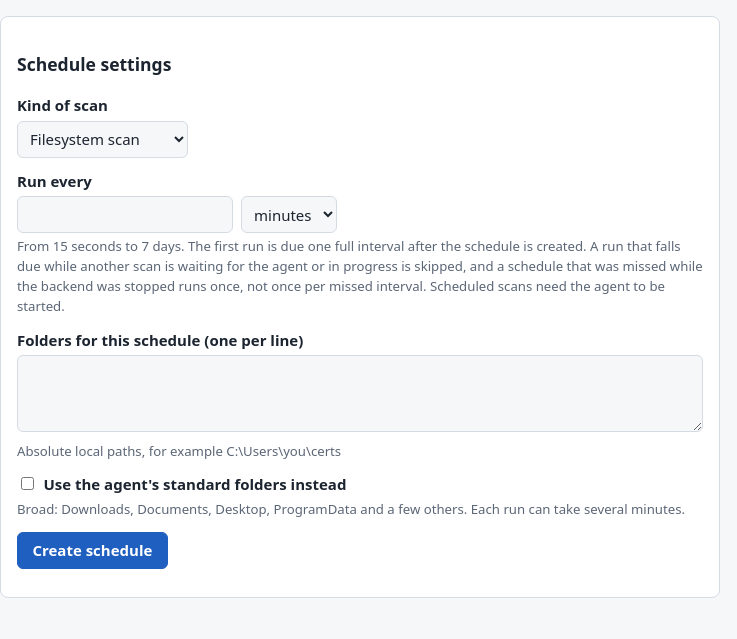
Test: the interval › refuses 1.5 minutes
The image size is (737, 639).
Type "C:\\certs" into the text box labelled "Folders for this schedule (one per line)" at (360, 394), box [17,355,703,432]
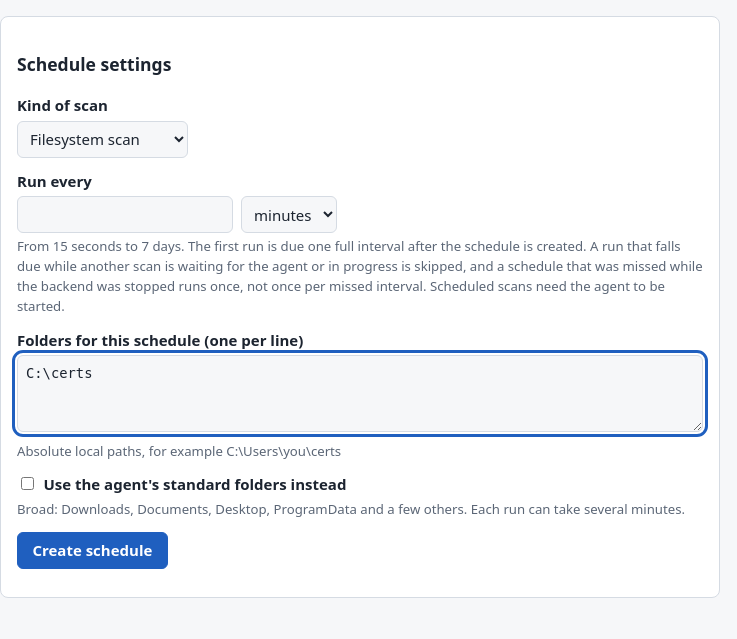
Type "1.5" into the field labelled "Run every" at (125, 215), box [17,196,233,234]
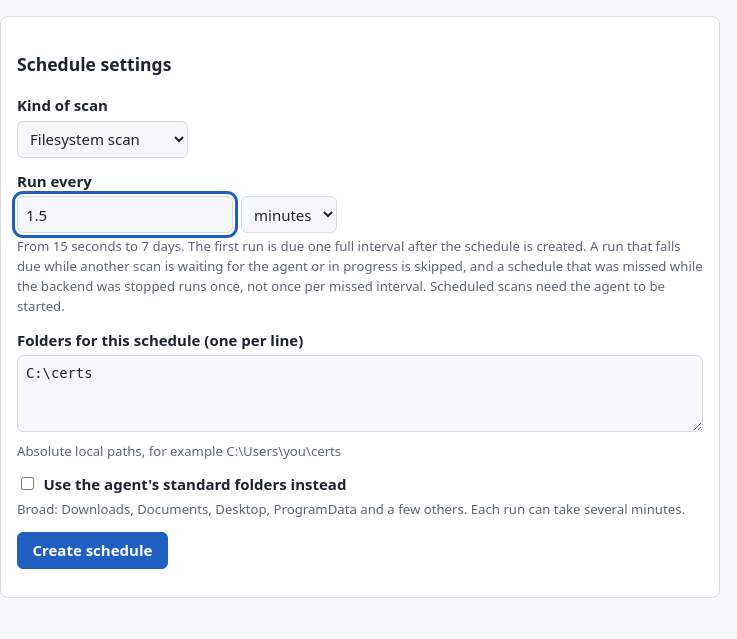
Select "minutes" in the dropdown named "Interval unit" at (289, 215), box [241,196,337,233]
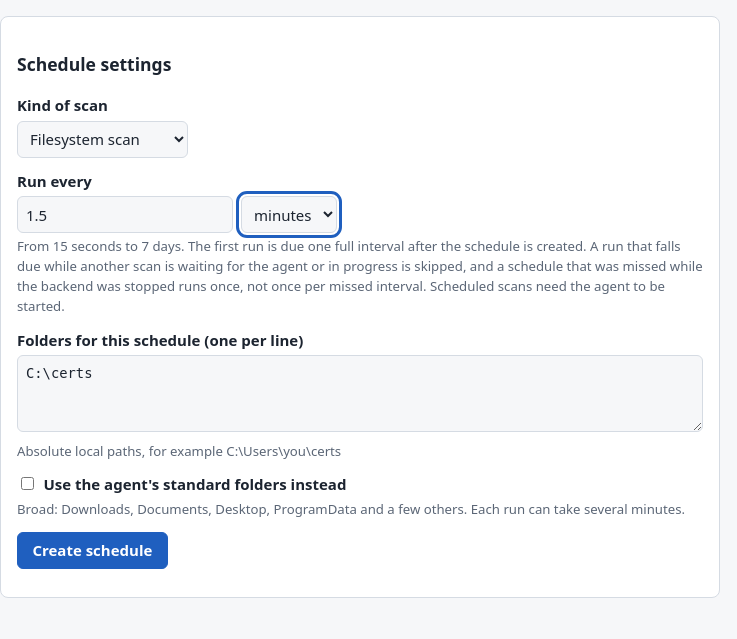
Click the button "Create schedule" at (92, 550), box [17,532,168,569]
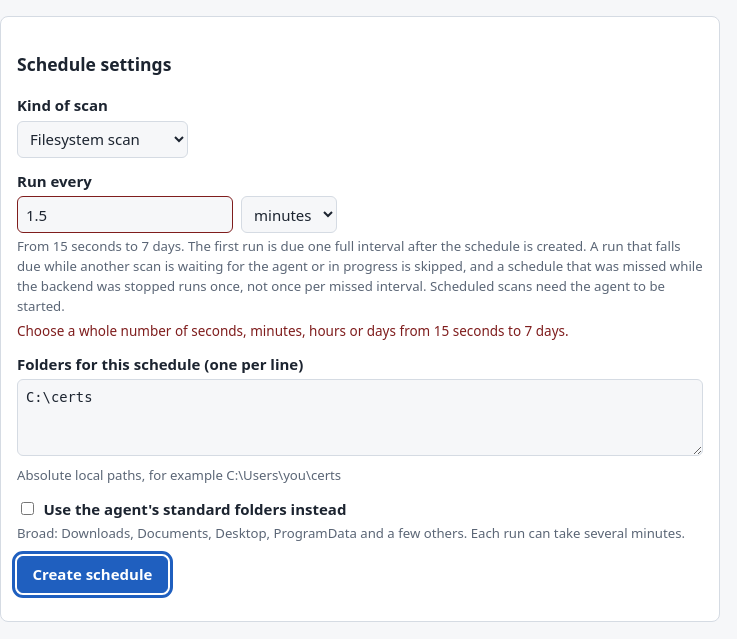
Now the text "from 15 seconds to 7 days" is shown, box [17,322,569,340]
